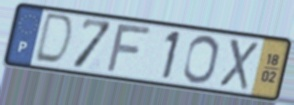1: (159, 30, 184, 82)
7: (71, 17, 114, 71)
D: (32, 11, 76, 68)
F: (103, 23, 154, 75)
O: (181, 34, 221, 86)
X: (217, 36, 260, 93)
